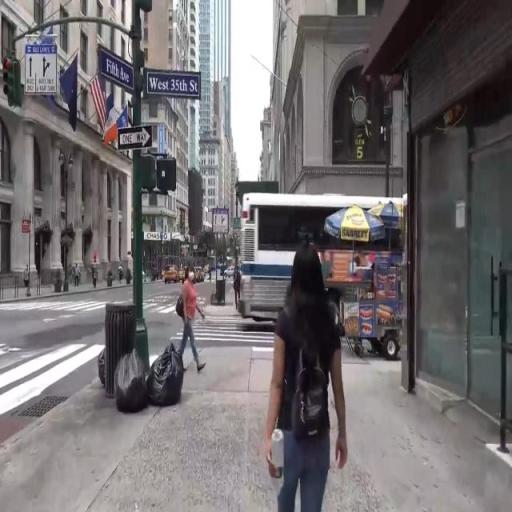person: (267, 238, 349, 512), (178, 265, 208, 377), (233, 264, 244, 307), (75, 262, 81, 283), (120, 264, 125, 283)
